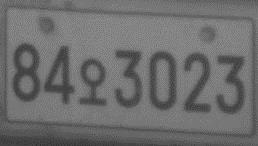0: (148, 50, 177, 111)
2: (182, 50, 212, 114)
3: (113, 48, 144, 107), (216, 53, 244, 114)
4: (43, 44, 75, 105)
8: (10, 41, 40, 101)
오: (78, 58, 107, 106)
